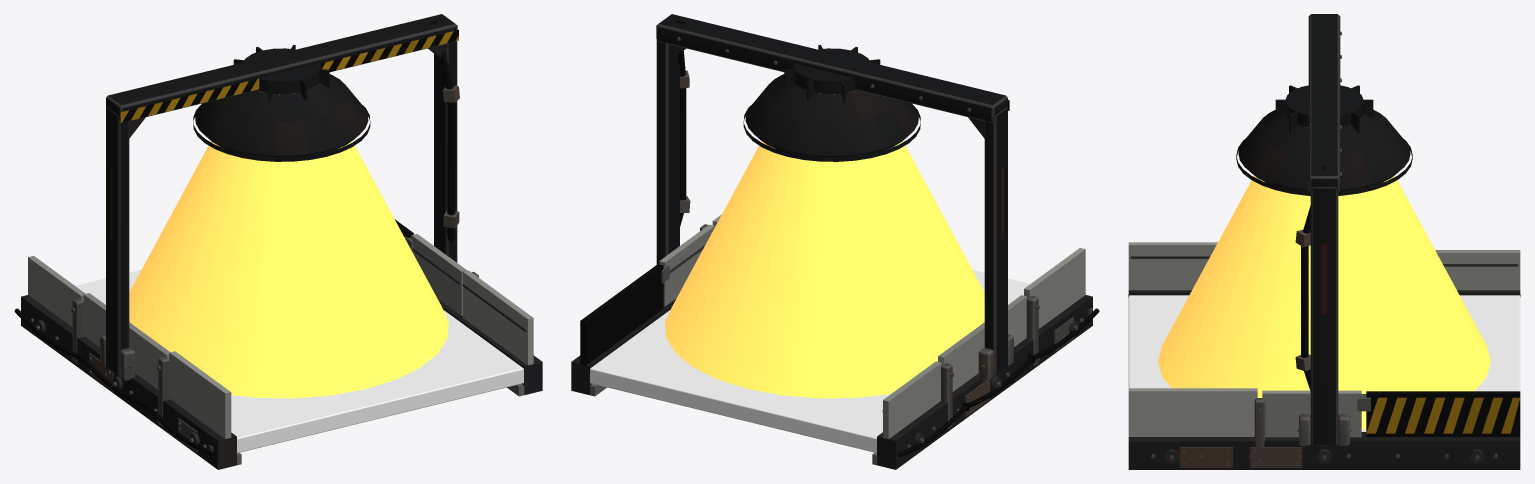
File: concept_heat_lamp.glb
The picture shows the model from 3 angles, left to right: view 1: azimuth 30°, elevation 25°; view 2: azimuth 150°, elevation 25°; view 3: azimuth 270°, elevation 25°; orthographic projection.
Visible parts, largest first — view 1: Cone, Frame, Belt; view 2: Cone, Frame, Belt; view 3: Frame, Cone, Belt.
Boxes of the visible parts, <box> form: Cone: <box>129,141,448,398</box>; Frame: <box>14,14,542,469</box>; Belt: <box>75,270,523,453</box>; Cone: <box>665,141,984,398</box>; Frame: <box>571,14,1099,469</box>; Belt: <box>590,270,1029,453</box>; Frame: <box>1128,14,1520,469</box>; Cone: <box>1158,175,1490,429</box>; Belt: <box>1128,295,1520,431</box>.
Bounding box in the file's own units: 2 × 1.67 × 2.
